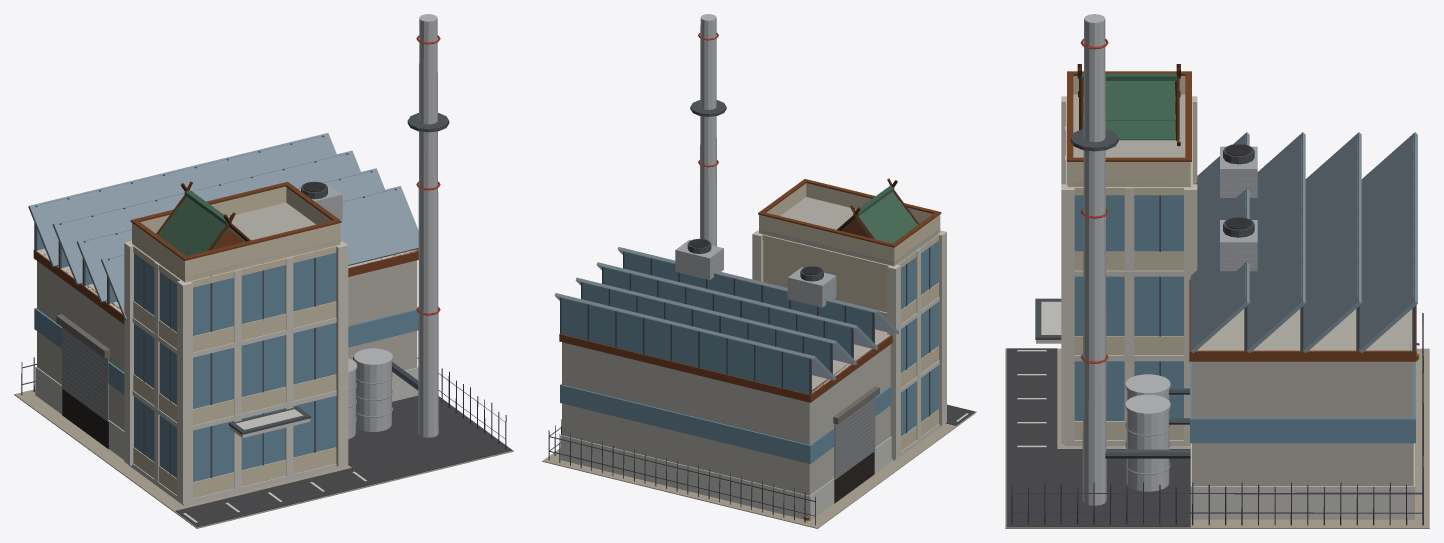
File: factory_3.glb
3 views of the same model, side by side, from view 1: azimuth 30°, elevation 25°; view 2: azimuth 150°, elevation 25°; view 3: azimuth 270°, elevation 25° (orthographic). The views are drawn at different scales.
Parts seen in each view (by area): view 1: body, windows; view 2: body, windows; view 3: body.
Boxes of the visible parts, x1=… form: body: x1=14, y1=14, x2=513, y2=528; windows: x1=62, y1=389, x2=108, y2=449; body: x1=542, y1=14, x2=976, y2=528; windows: x1=834, y1=451, x2=874, y2=503; body: x1=1005, y1=14, x2=1429, y2=528.
Size of the model in its own units: 15.9 by 20.19 by 15.9.
